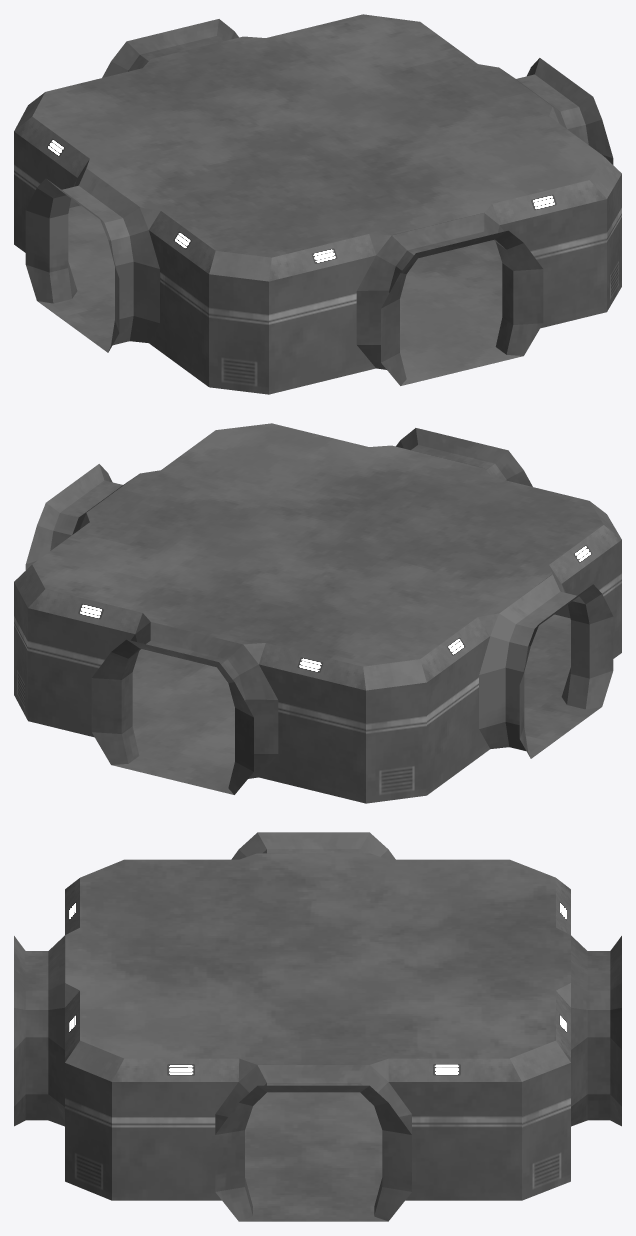
Rendered from room1.fbx.
3 views of the same model, one above another, from view 1: azimuth 30°, elevation 25°; view 2: azimuth 150°, elevation 25°; view 3: azimuth 270°, elevation 25° (orthographic). The views are drawn at different scales.
Visible parts, largest first — view 1: hallway_oct.013; view 2: hallway_oct.013; view 3: hallway_oct.013.
Boxes of the visible parts, x1=… form: hallway_oct.013: x1=14, y1=14, x2=621, y2=394; hallway_oct.013: x1=14, y1=423, x2=621, y2=803; hallway_oct.013: x1=14, y1=832, x2=621, y2=1221.
Size of the model in its own units: 1600 by 400 by 1623.
1 material, 1 textured.
